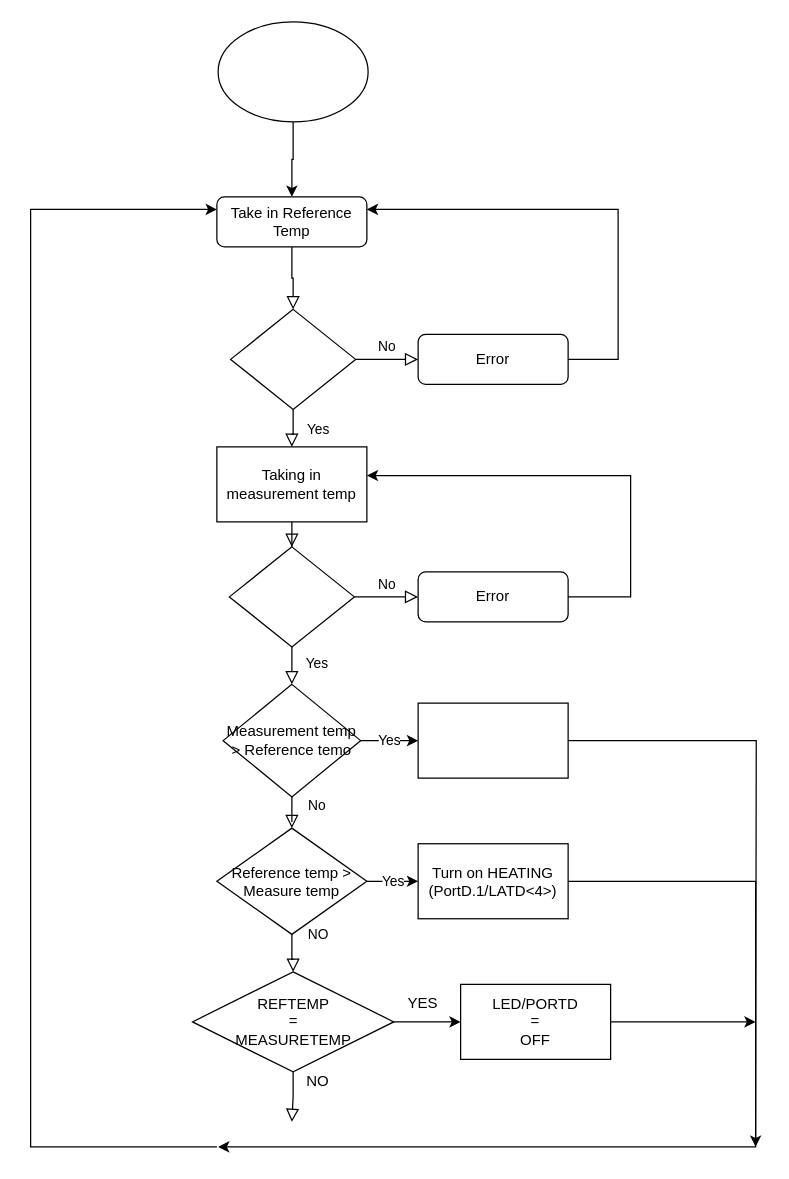
This 789x1179 diagram has some shape labels left out. Here are the shapes that lost their labels. From the top down, the centre of each, then its label:
At (x=292, y=71): "Start".
At (x=292, y=358): "10c-50c Range".
At (x=291, y=596): "-10c to 60c Range".
At (x=492, y=740): "Turn on COOLING (PortD.2/LATD<2>)".
